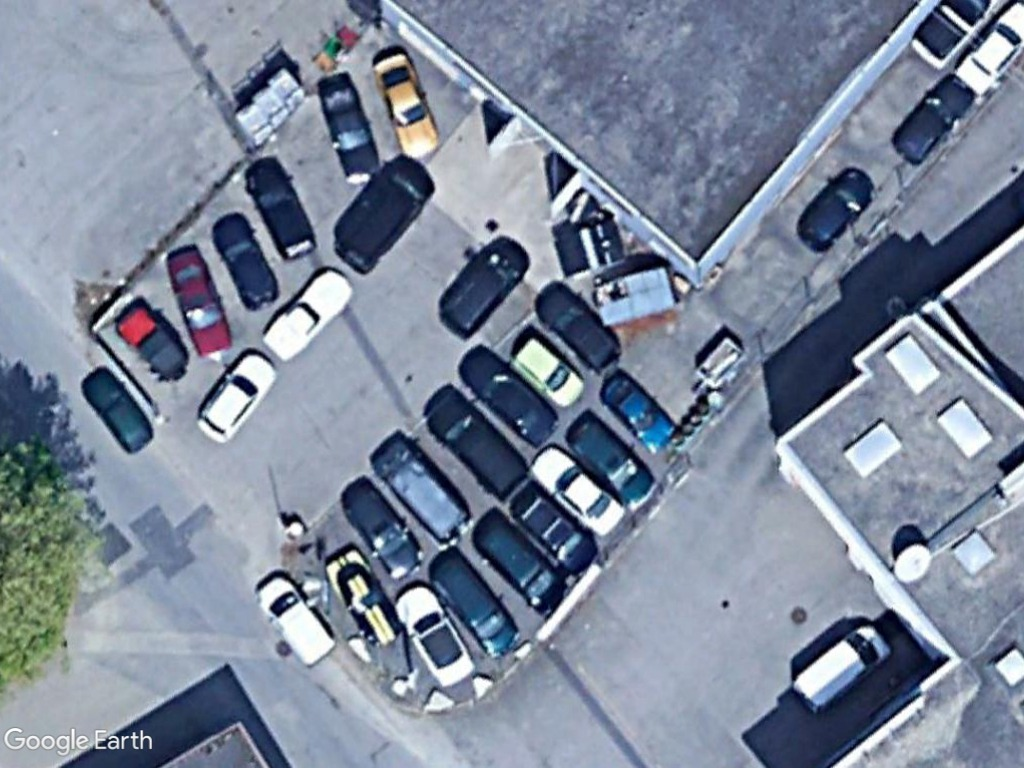car: (256, 266, 362, 368), (565, 409, 658, 517), (390, 581, 477, 689), (189, 347, 276, 449), (466, 353, 559, 445), (249, 569, 336, 667), (531, 445, 622, 538), (368, 49, 442, 162), (535, 284, 623, 373), (510, 485, 596, 576), (240, 160, 319, 259), (343, 485, 422, 582), (888, 73, 972, 164), (792, 165, 878, 253), (165, 249, 232, 358), (313, 78, 380, 186), (77, 366, 157, 456), (952, 0, 1024, 96), (213, 211, 280, 314), (597, 365, 674, 454), (509, 335, 582, 411)
van: (365, 437, 469, 549), (330, 160, 432, 273), (430, 395, 529, 504), (785, 622, 895, 717), (427, 544, 519, 655), (434, 239, 531, 342), (474, 516, 570, 615)
